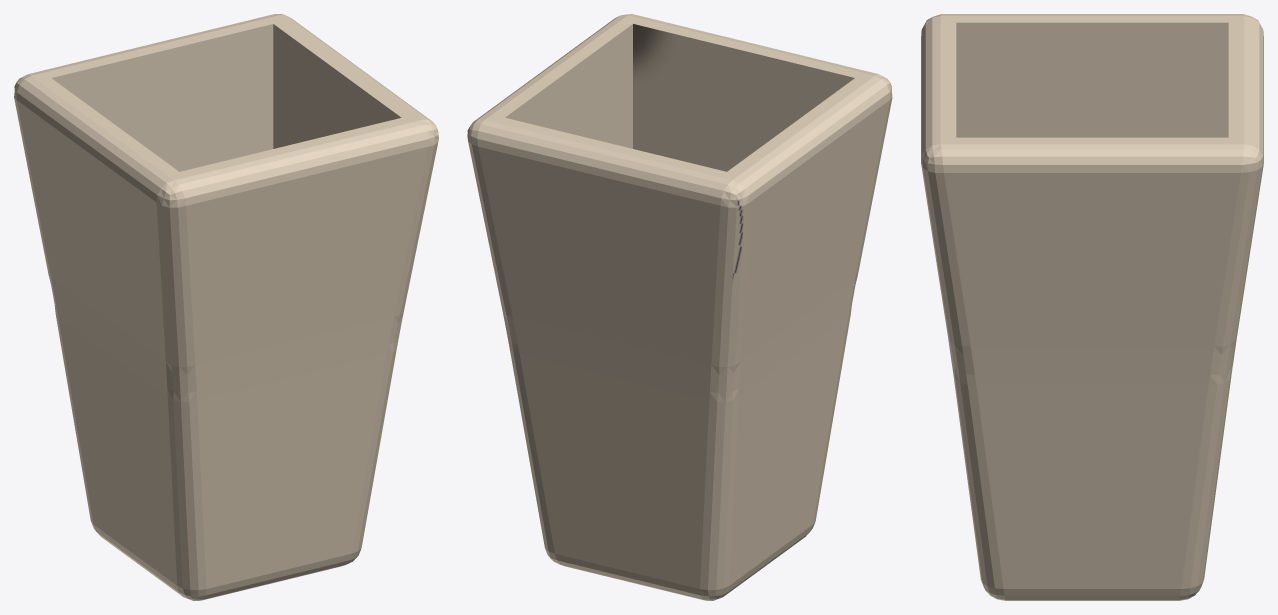
File: gomibako_body.obj
3 renders of one model, left to right at view 1: azimuth 30°, elevation 25°; view 2: azimuth 150°, elevation 25°; view 3: azimuth 270°, elevation 25°, orthographic. The views are drawn at different scales.
Parts seen in each view (by area): view 1: 立方体.002; view 2: 立方体.002; view 3: 立方体.002.
Part boxes in pixels (box(x1,y1,x2,y2)): 立方体.002: box(14, 14, 438, 600); 立方体.002: box(467, 14, 892, 600); 立方体.002: box(921, 14, 1263, 600).
Bounding box in the file's own units: 2.42 × 3.76 × 2.42.
Materials: 1 (1 with a texture image).
